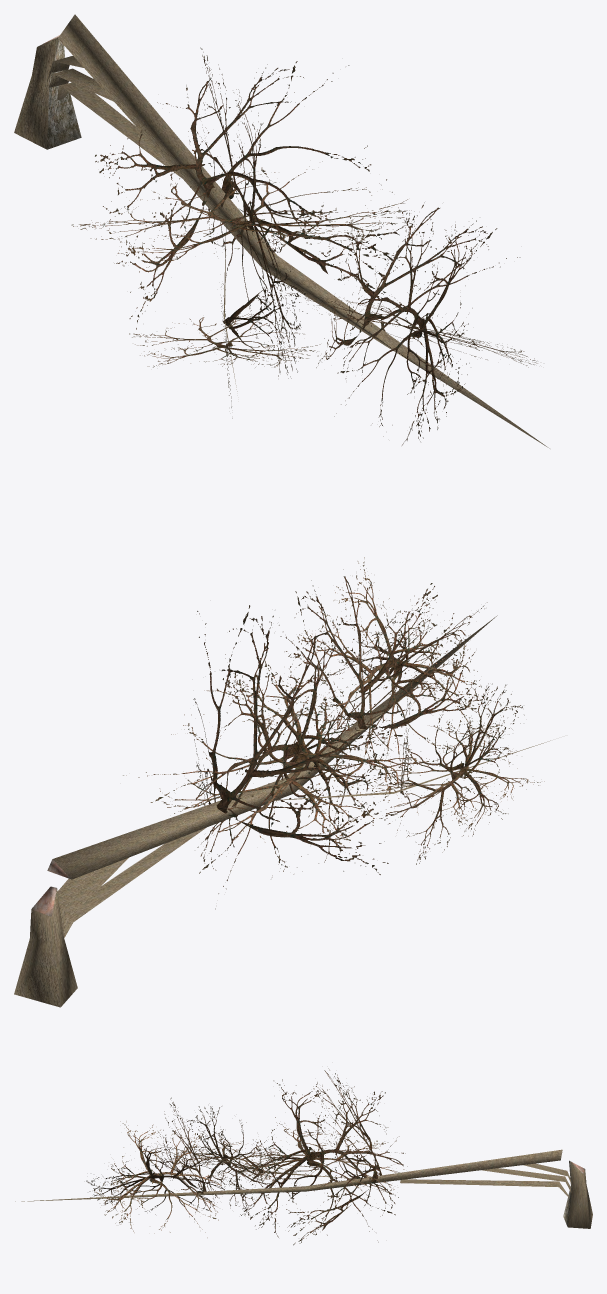
The model's file is decd_maplefallen_l3.fbx.
The picture shows the model from 3 angles, top to bottom: view 1: azimuth 30°, elevation 25°; view 2: azimuth 150°, elevation 25°; view 3: azimuth 270°, elevation 25°; orthographic projection. The views are drawn at different scales.
Parts seen in each view (by area): view 1: mesh_node; view 2: mesh_node; view 3: mesh_node.
Boxes of the visible parts, bbox=[...] form: mesh_node: bbox=[14, 14, 549, 448]; mesh_node: bbox=[14, 557, 550, 1007]; mesh_node: bbox=[15, 1068, 592, 1245].
Size of the model in its own units: 3.46 by 2.84 by 7.46.
